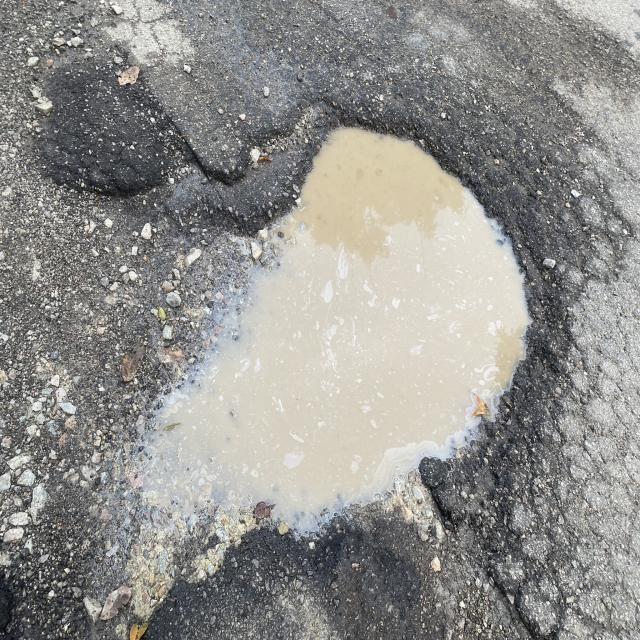Pothole: (134, 28, 564, 486)
